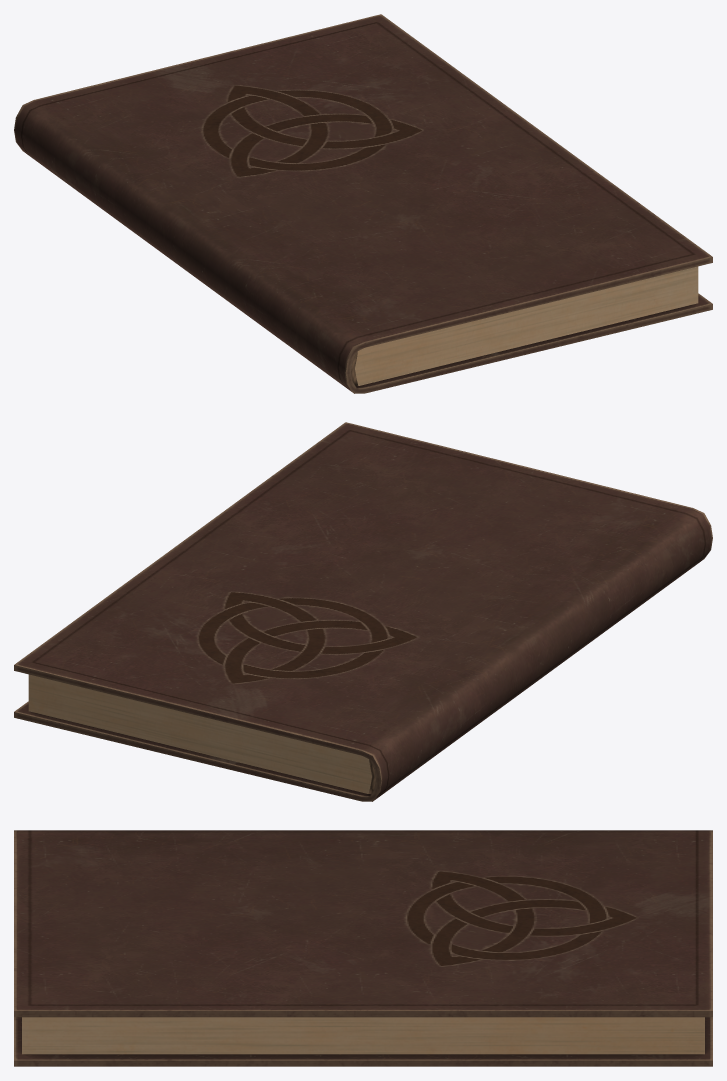
File: Journal.glb
The picture shows the model from 3 angles, top to bottom: view 1: azimuth 30°, elevation 25°; view 2: azimuth 150°, elevation 25°; view 3: azimuth 270°, elevation 25°; orthographic projection. The views are drawn at different scales.
Visible parts, largest first — view 1: JournalClosed; view 2: JournalClosed; view 3: JournalClosed.
Boxes of the visible parts, <box> form: JournalClosed: <box>14,14,712,393</box>; JournalClosed: <box>14,422,712,801</box>; JournalClosed: <box>14,830,712,1066</box>.
Bounding box in the file's own units: 0.1586 × 0.0218 × 0.2481.
1 material, 1 textured.
